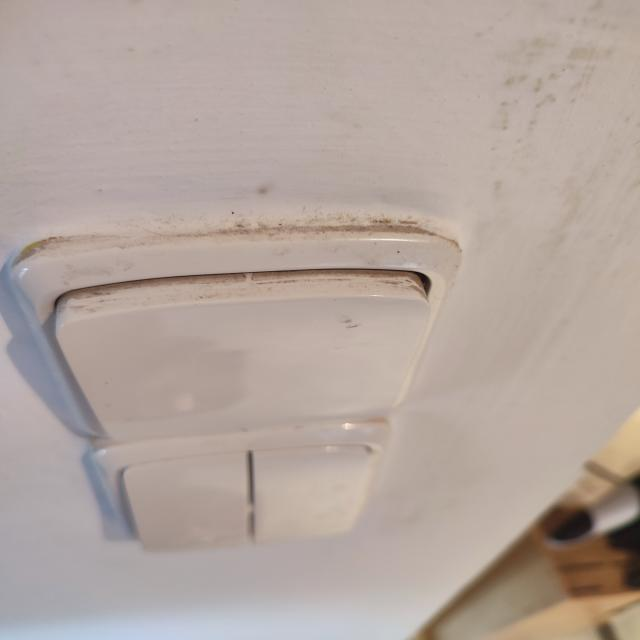house switch: (7, 237, 462, 443)
house switch double: (86, 421, 399, 551)
